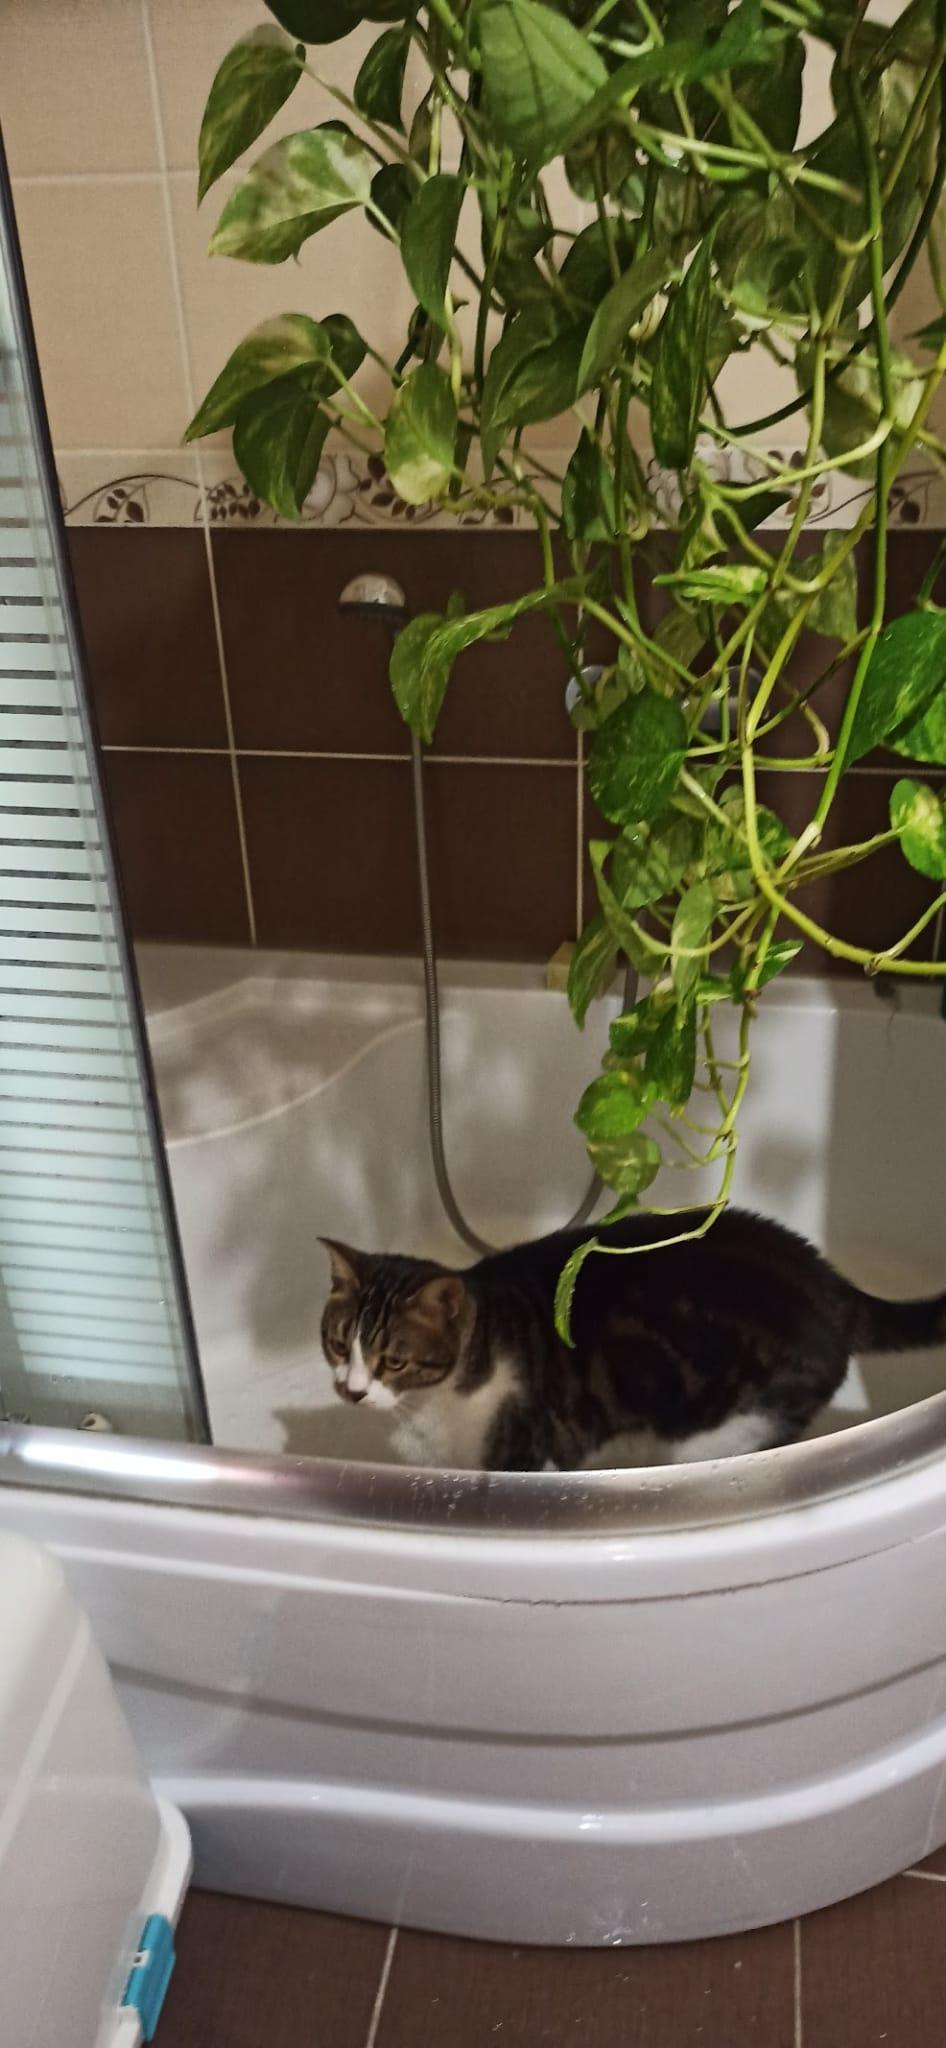kedo: (321, 1230, 946, 1469)
